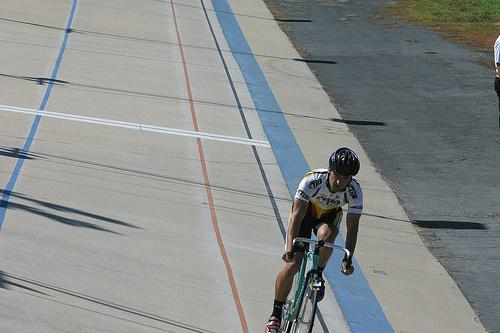car: (282, 239, 353, 333)
person: (263, 148, 364, 333)
